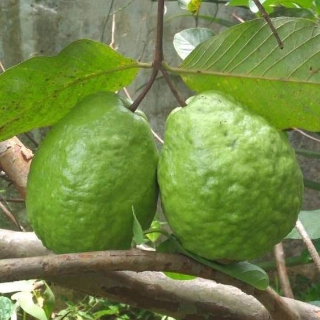oi: (155, 91, 304, 257), (27, 94, 155, 255)
